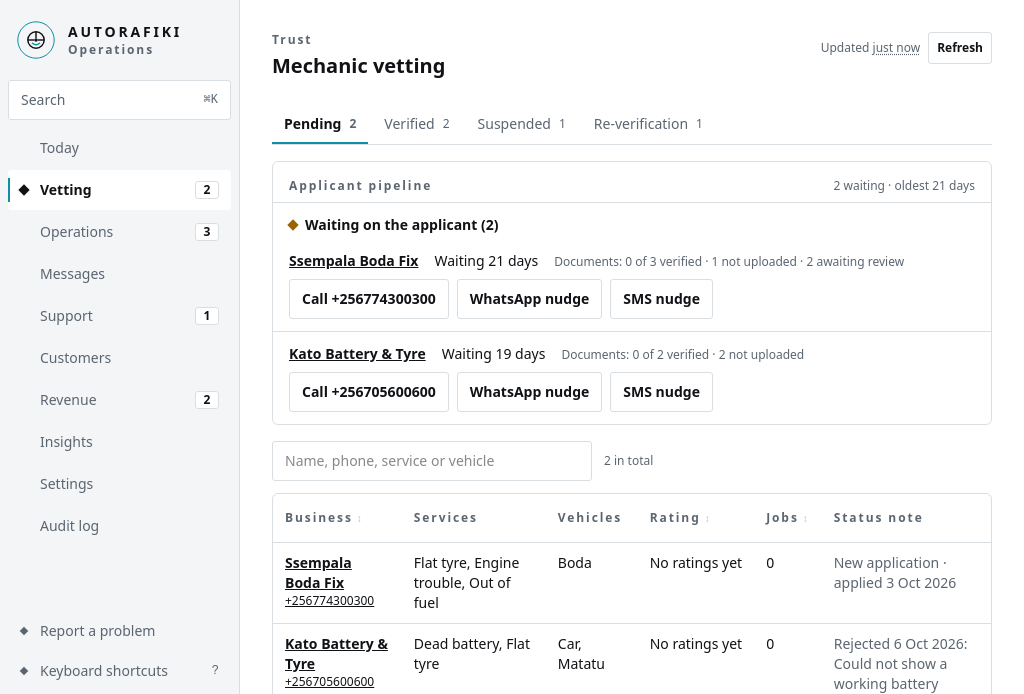
Scenario: support search › opens from anywhere with ⌘K and goes to a job with Enter
Check: the heading "Mechanic vetting" is shown, box [272, 52, 445, 80]
Type keys "{Meta>}k{/Meta}"
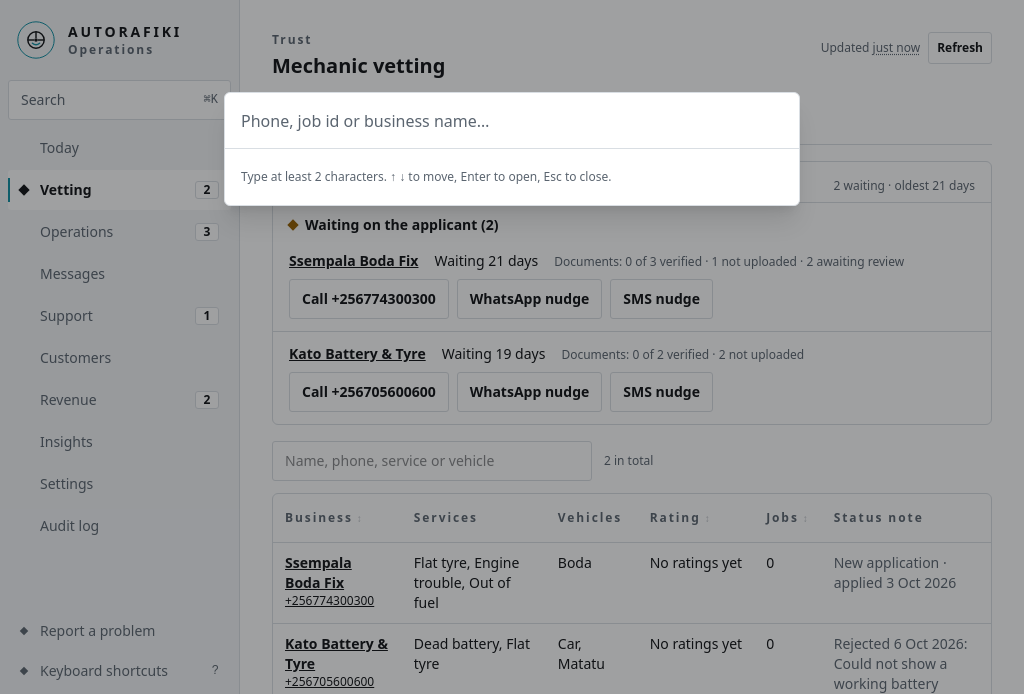
Type "job_enroute_late" into the dropdown. click: (512, 121)
box: [225, 93, 799, 149]
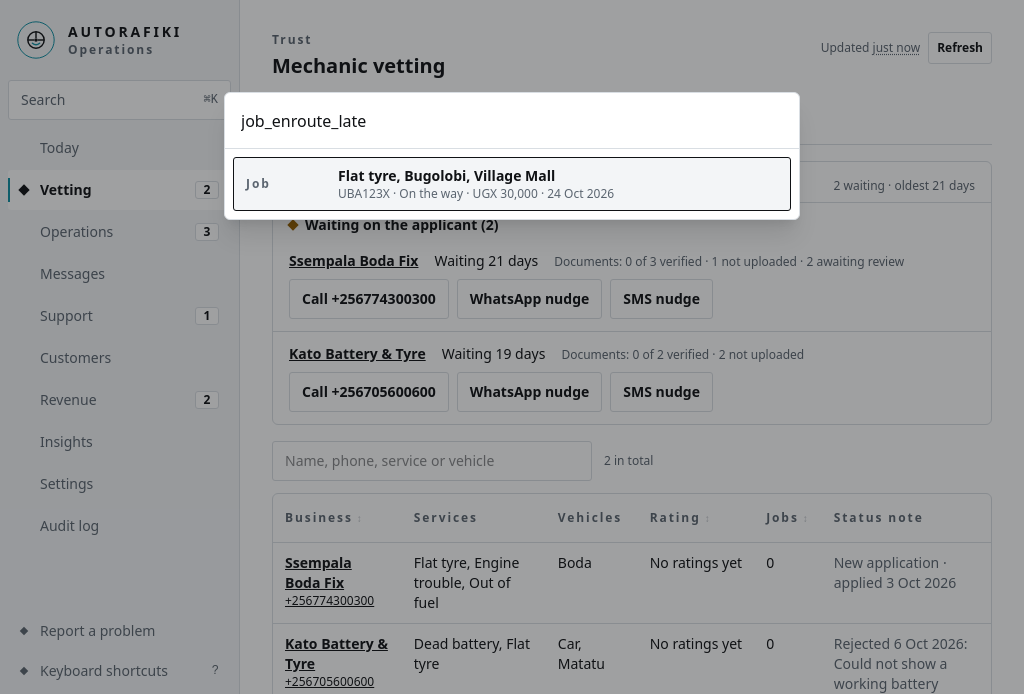
Check: the option "Flat tyre" is shown, box [233, 157, 791, 211]
Press Enter
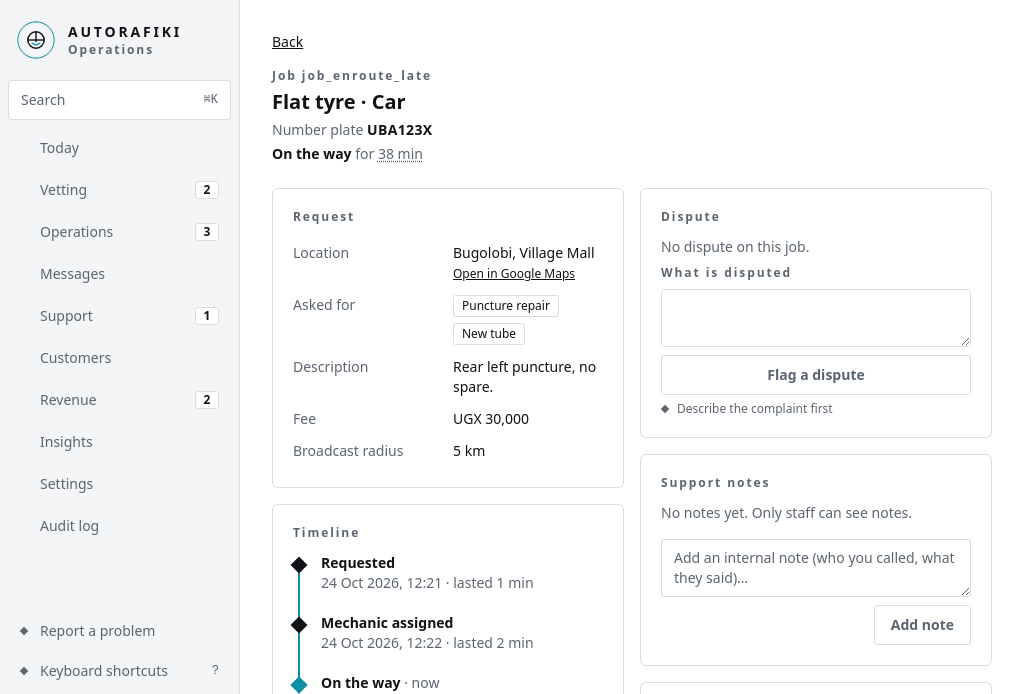
Check: the heading "Flat tyre · Car" is shown, box [272, 88, 406, 115]
